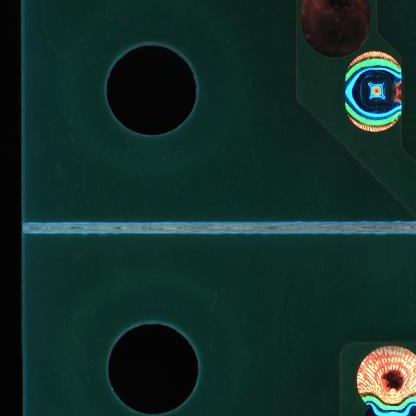spot: (343, 49, 408, 138)
